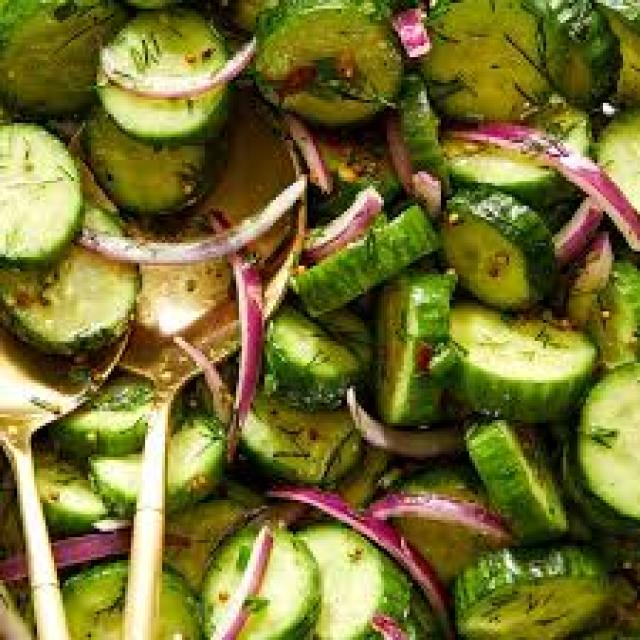Pickle: (98, 11, 256, 139), (450, 303, 594, 423), (291, 206, 439, 316), (82, 108, 226, 214), (422, 0, 549, 120), (0, 245, 138, 355), (458, 549, 618, 638), (205, 521, 318, 639), (296, 525, 410, 638), (465, 419, 568, 543), (375, 271, 456, 425), (579, 364, 640, 518), (166, 417, 225, 509)
